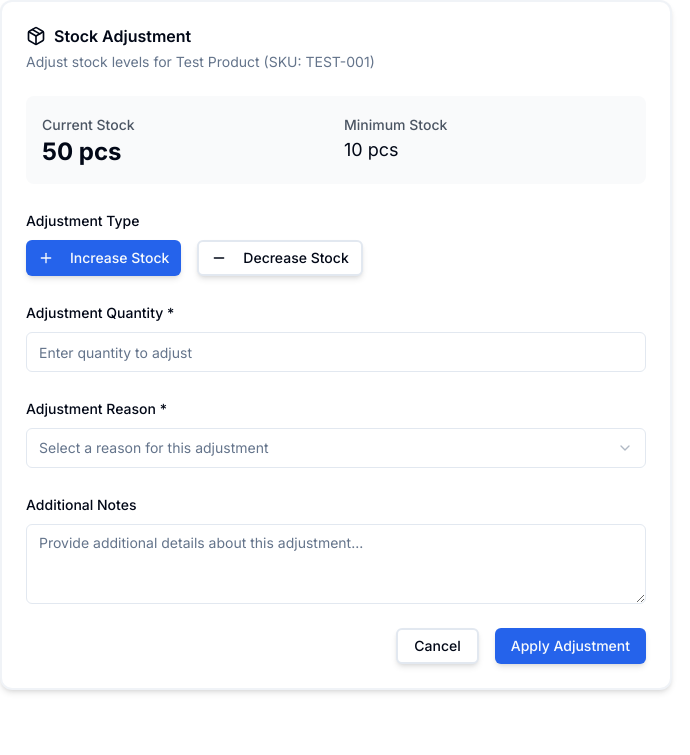
StockAdjustmentForm › shows approval warning for large adjustments
Type "150" into the number field labelled "Adjustment Quantity *" at point(336, 352), box [26,332,646,372]
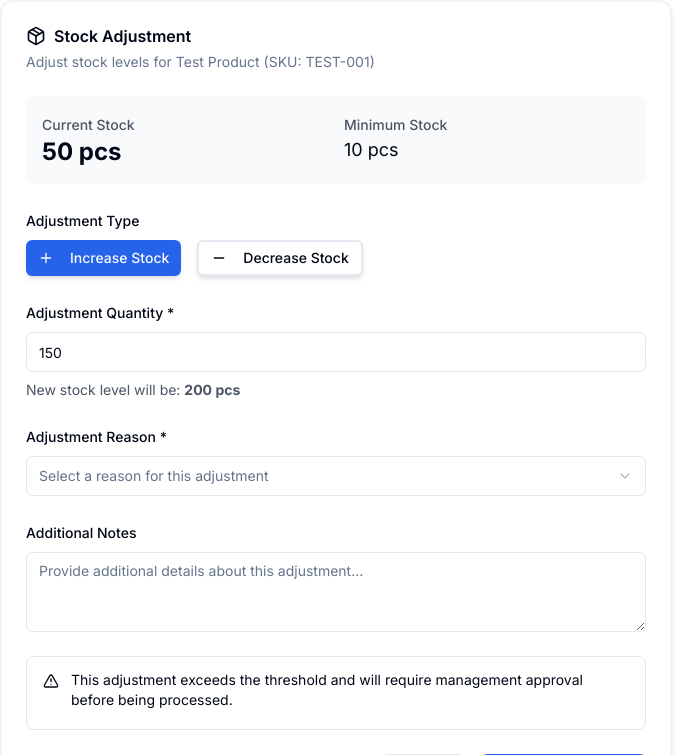
Now the text "exceeds the threshold and will require management approval" is shown, box [71,671,583,708]
